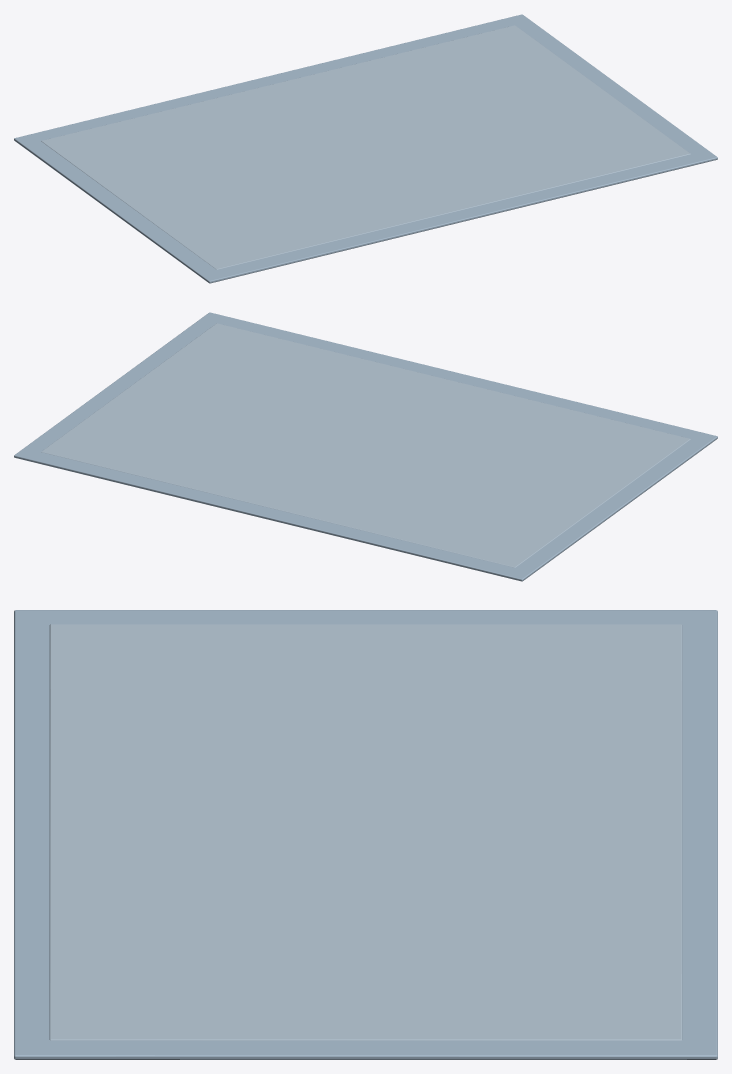
The model's file is rug.glb.
3 views of the same model, one above another, from view 1: azimuth 30°, elevation 25°; view 2: azimuth 150°, elevation 25°; view 3: azimuth 270°, elevation 25° (orthographic). The views are drawn at different scales.
Visible parts, largest first — view 1: rug; view 2: rug; view 3: rug.
Part boxes in pixels (x1,y1,x2,y2): rug: (14, 14, 717, 283); rug: (14, 312, 717, 581); rug: (14, 610, 717, 1059).
Bounding box in the file's own units: 2.37 × 0.014 × 1.58.
